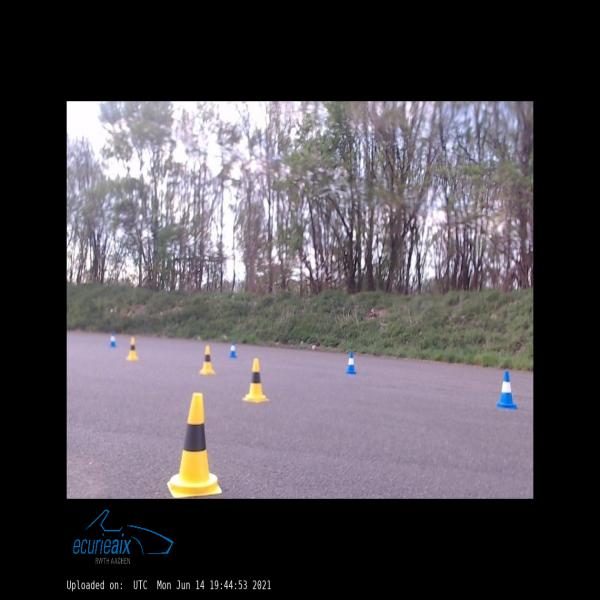blue_cone: (497, 372, 518, 409), (346, 351, 356, 374), (229, 341, 236, 357), (110, 332, 116, 347)
yellow_cone: (168, 393, 222, 498), (242, 358, 268, 402), (200, 346, 215, 373), (126, 335, 138, 360)
